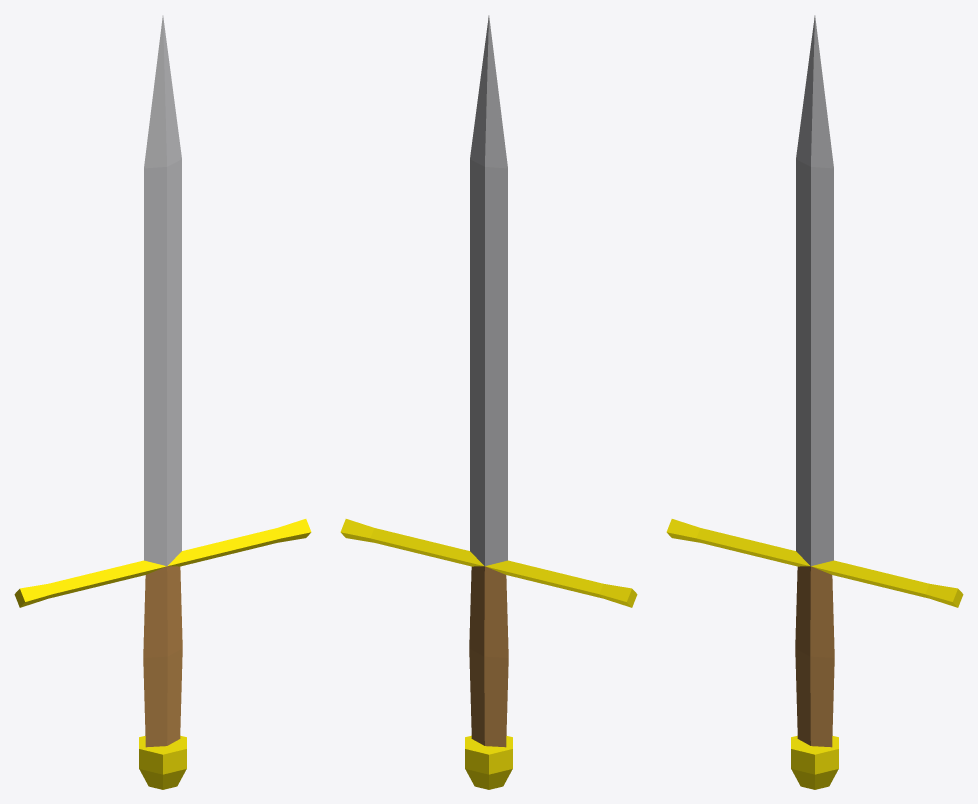
Rendered from sword.glb.
The picture shows the model from 3 angles, left to right: view 1: azimuth 30°, elevation 25°; view 2: azimuth 150°, elevation 25°; view 3: azimuth 330°, elevation 25°; orthographic projection.
Parts seen in each view (by area): view 1: blade, grip, crossguard, pommel; view 2: blade, grip, crossguard, pommel; view 3: blade, grip, crossguard, pommel.
Boxes of the visible parts, left/top/right/bottom form: blade: left=144, top=15, right=181, bottom=565; grip: left=143, top=566, right=182, bottom=747; crossguard: left=14, top=519, right=311, bottom=607; pommel: left=139, top=735, right=186, bottom=789; blade: left=470, top=15, right=507, bottom=565; grip: left=469, top=566, right=508, bottom=747; crossguard: left=340, top=519, right=637, bottom=607; pommel: left=465, top=735, right=512, bottom=789; blade: left=796, top=15, right=833, bottom=565; grip: left=795, top=566, right=834, bottom=747; crossguard: left=666, top=519, right=963, bottom=607; pommel: left=791, top=735, right=838, bottom=789.
Size of the model in its own units: 3 by 7.7 by 0.433.
